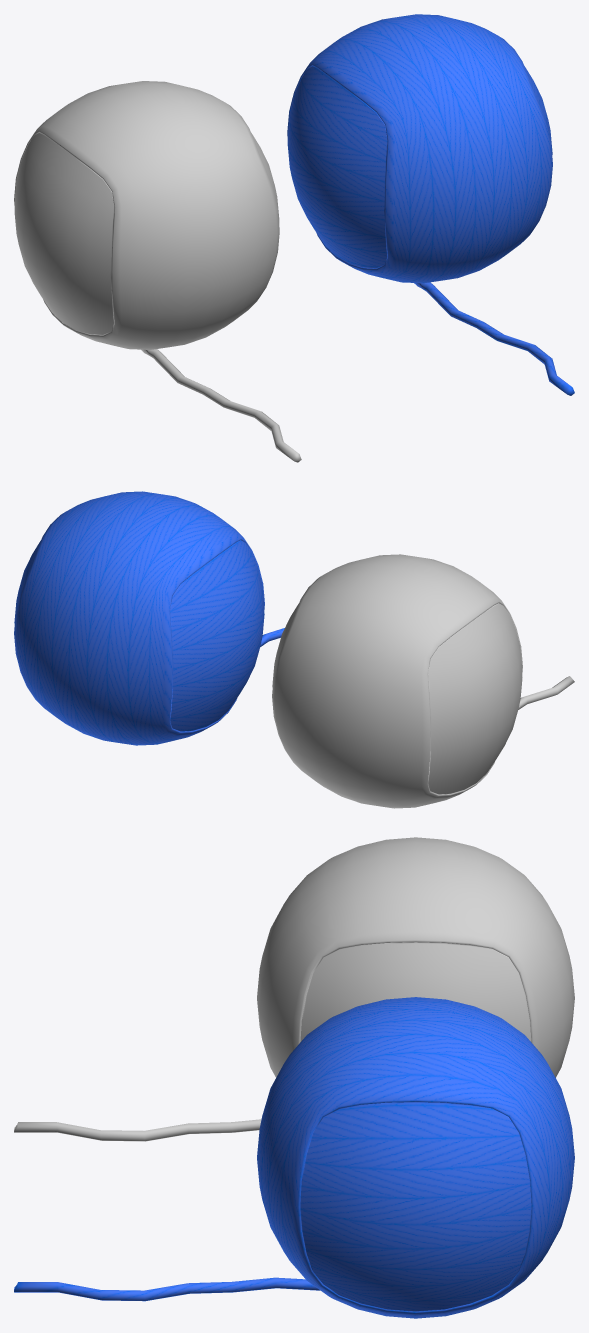
Rendered from Yarn.obj.
The picture shows the model from 3 angles, top to bottom: view 1: azimuth 30°, elevation 25°; view 2: azimuth 150°, elevation 25°; view 3: azimuth 270°, elevation 25°; orthographic projection. The views are drawn at different scales.
Visible parts, largest first — view 1: Cube, Cube.001; view 2: Cube, Cube.001; view 3: Cube.001, Cube.
Part boxes in pixels (<box>): Cube: <box>14,81,301,462</box>; Cube.001: <box>287,14,574,395</box>; Cube: <box>272,554,574,808</box>; Cube.001: <box>14,491,284,745</box>; Cube.001: <box>14,997,574,1318</box>; Cube: <box>14,837,574,1141</box>.
Size of the model in its own units: 3.55 by 1.64 by 2.89.
